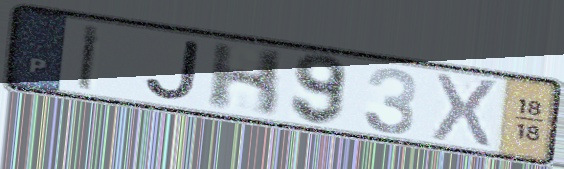3: (362, 66, 420, 135)
9: (287, 51, 349, 130)
H: (204, 41, 289, 119)
I: (75, 21, 104, 93)
J: (142, 39, 204, 103)
X: (428, 70, 502, 152)
